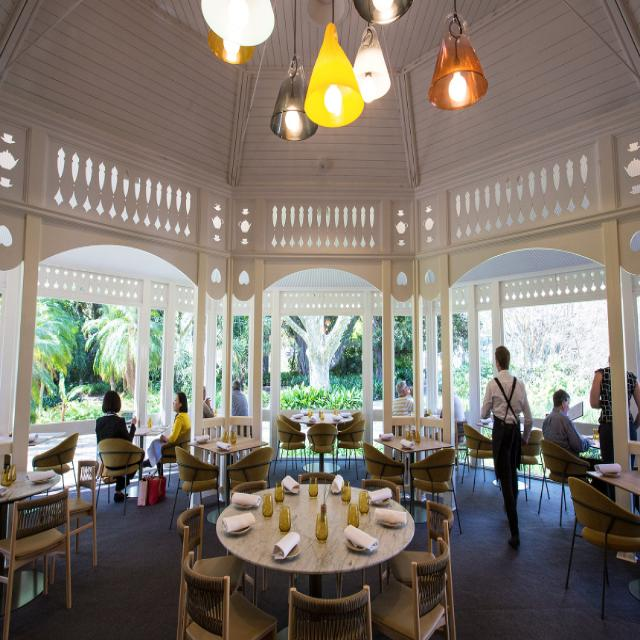person: (484, 351, 539, 568), (582, 327, 640, 470), (90, 385, 142, 501), (532, 396, 597, 486), (154, 378, 198, 474), (222, 361, 259, 440)
